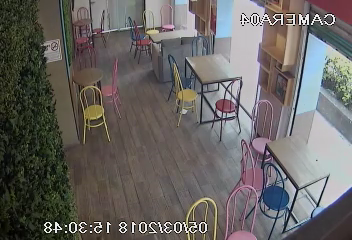libre: (234, 107, 331, 225), (166, 36, 250, 132), (67, 44, 131, 139), (65, 1, 114, 59)
